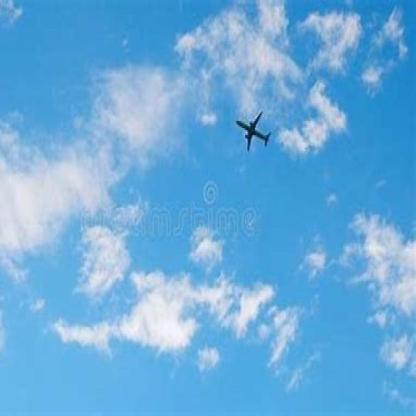plane: (235, 107, 277, 155)
